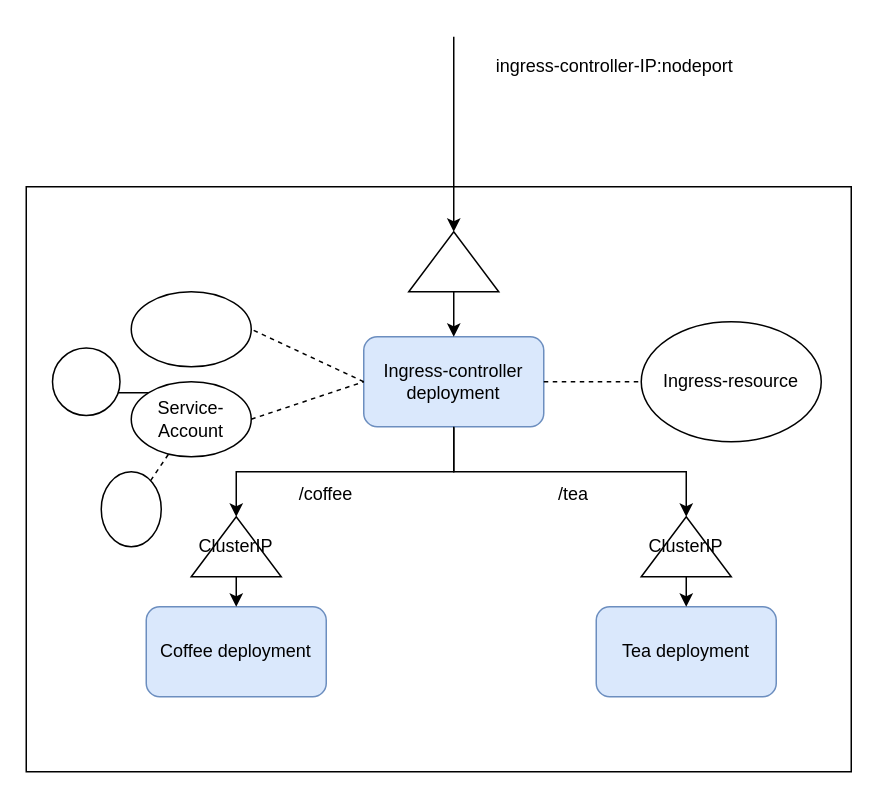
Image size: 878x798. Some labels were removed from this diagram. Each missing label, with the box of its shape:
Config-Map: (130, 290, 251, 367)
NodePort: (407, 230, 499, 292)
rbac: (100, 470, 161, 547)
secret for tls: (51, 346, 120, 416)
